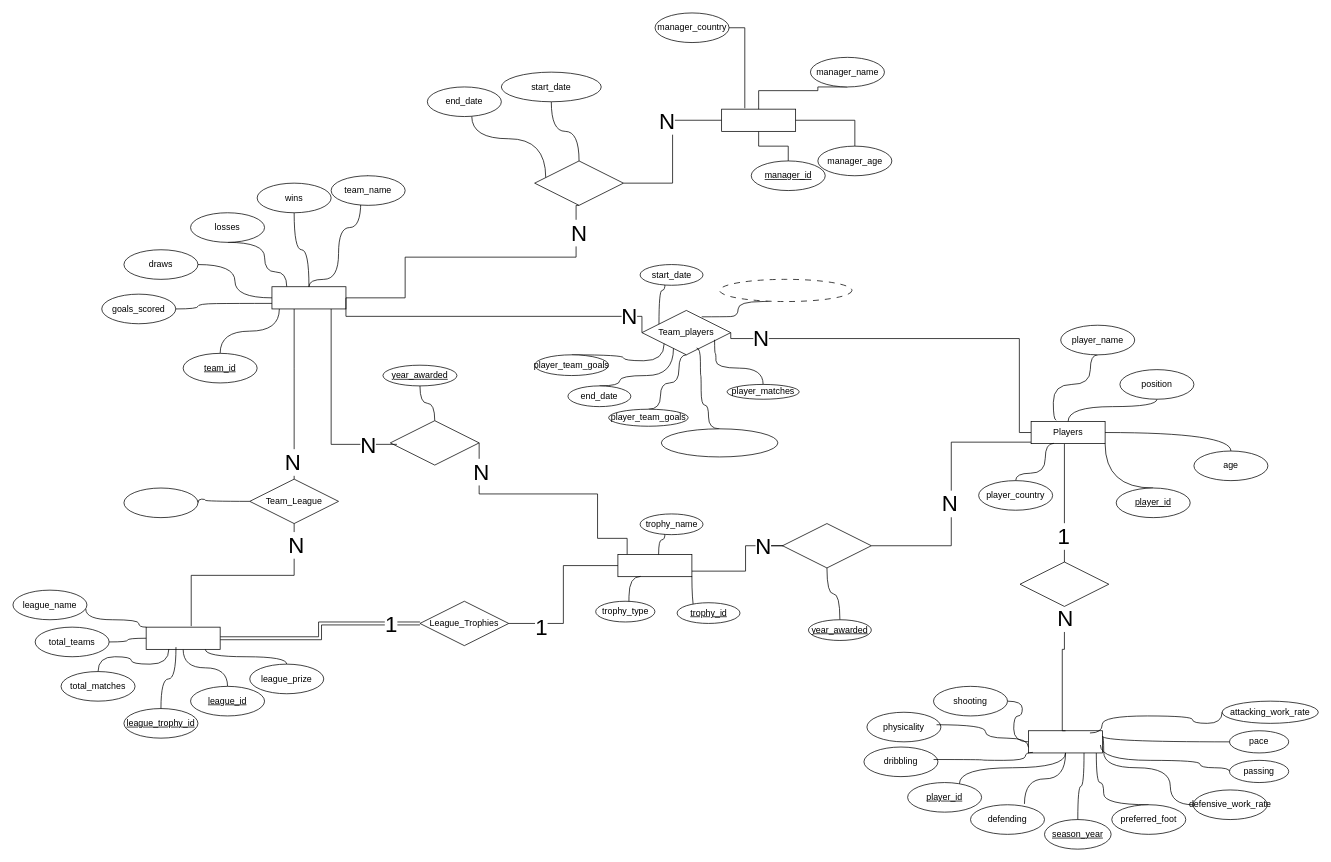
Some shapes in this 1331 by 862 pixel diagram are drawn without their labels. Each missing label, with the centre of its shape:
"League" goes at [182,637].
"Manager_Team" goes at [578,182].
"Managers" goes at [758,119].
"Player Stats" goes at [1064,583].
"Player_Attributes" goes at [1065,741].
"player_team_expected_goals" goes at [719,442].
"player_team_goals_per_match" goes at [785,290].
"Player_Trophies" goes at [826,545].
"Team_Trophies" goes at [434,442].
"Teams" goes at [308,297].
"titles_won" goes at [160,502].
"Trophies" goes at [654,565].
